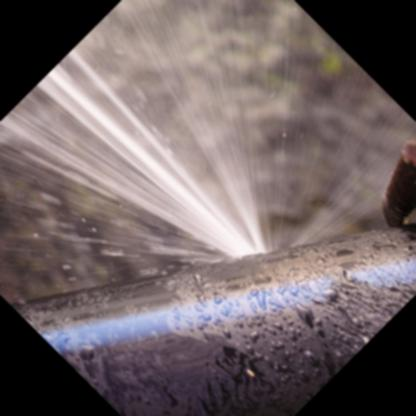burst: (201, 210, 296, 288)
